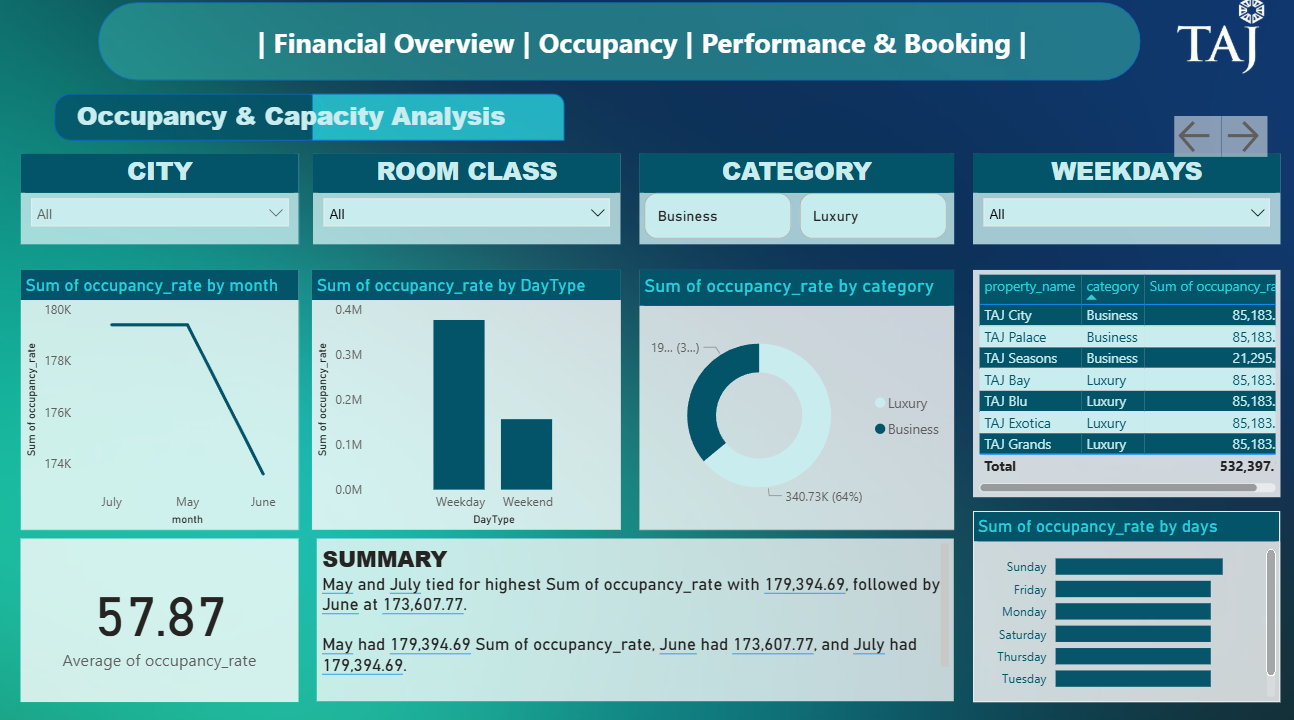

Layout of this report page (visuals, bound fields, positions):
{"tool":"powerbi","page":{"name":"Occupancy","canvas":[1280,720],"ordinal":2},"visuals":[{"type":"image","box":[0,1.8,1279.7,719],"z":0},{"type":"image","box":[1123,0,156.6,87.2],"z":1000},{"type":"shape","box":[103.2,10.7,1019.8,76.5],"z":2000},{"type":"shape","box":[60.5,99.7,263.4,46.3],"z":3000},{"type":"shape","box":[311.5,99.7,247.4,46.3],"z":4000},{"type":"textbox","box":[138.8,26.7,984.2,46.3],"z":5000},{"type":"textbox","box":[76.5,99.7,482.3,58.7],"z":6000},{"type":"slicer","title":"CITY","fields":{"Values":["hotels (1).city"]},"box":[26.7,158.4,272.3,89],"z":7000},{"type":"slicer","title":"ROOM CLASS","fields":{"Values":["rooms.room_class"]},"box":[313.2,158.4,300.8,89],"z":8000},{"type":"advancedSlicerVisual","title":"CATEGORY","fields":{"Values":["hotels (1).category"]},"box":[631.8,158.4,307.9,89],"z":9000},{"type":"slicer","title":"WEEKDAYS","fields":{"Values":["bookings.days"]},"box":[959.3,158.4,300.8,89],"z":10000},{"type":"donutChart","fields":{"Category":["hotels (1).category"],"Y":["Sum(occupancy.occupancy_rate)"]},"box":[631.8,272.3,307.9,254.5],"z":11000},{"type":"tableEx","fields":{"Values":["hotels (1).property_name","hotels (1).category","Sum(occupancy.occupancy_rate)"]},"box":[959.3,272.3,300.8,222.5],"z":12000},{"type":"clusteredBarChart","fields":{"Y":["Sum(occupancy.occupancy_rate)"],"Category":["occupancy.days"]},"box":[959.3,509,300.8,186.9],"z":13000},{"type":"lineChart","fields":{"Category":["occupancy.month"],"Y":["Sum(occupancy.occupancy_rate)"]},"box":[26.7,272.3,272.3,254.5],"z":14000},{"type":"clusteredColumnChart","fields":{"Category":["occupancy.DayType"],"Y":["Sum(occupancy.occupancy_rate)"]},"box":[311.5,272.3,302.6,254.5],"z":15000},{"type":"card","fields":{"Values":["Avg(occupancy.occupancy_rate)"]},"box":[26.7,535.7,272.3,160.2],"z":16000},{"type":"textbox","box":[317.2,536.1,623.2,159.2],"z":17000},{"type":"actionButton","box":[1201.8,122.6,44.7,40.4],"z":18000},{"type":"actionButton","box":[1155.7,122.6,46.2,40.4],"z":19000}]}

Visuals, with their boxes in screenshot pixels (x1, y1, x2, y2), scaled from the page's 1280x720 canvas onto the 1294x720 screenshot:
image: crop(0, 2, 1293, 719)
image: crop(1135, 0, 1293, 87)
shape: crop(104, 11, 1135, 87)
shape: crop(61, 100, 327, 146)
shape: crop(315, 100, 565, 146)
textbox: crop(140, 27, 1135, 73)
textbox: crop(77, 100, 565, 158)
"CITY" slicer: crop(27, 158, 302, 247)
"ROOM CLASS" slicer: crop(317, 158, 621, 247)
"CATEGORY" advancedSlicerVisual: crop(639, 158, 950, 247)
"WEEKDAYS" slicer: crop(970, 158, 1274, 247)
donutChart - hotels (1).category x Sum(occupancy.occupancy_rate): crop(639, 272, 950, 527)
tableEx - hotels (1).property_name x hotels (1).category: crop(970, 272, 1274, 495)
clusteredBarChart - Sum(occupancy.occupancy_rate) x occupancy.days: crop(970, 509, 1274, 696)
lineChart - occupancy.month x Sum(occupancy.occupancy_rate): crop(27, 272, 302, 527)
clusteredColumnChart - occupancy.DayType x Sum(occupancy.occupancy_rate): crop(315, 272, 621, 527)
card - Avg(occupancy.occupancy_rate): crop(27, 536, 302, 696)
textbox: crop(321, 536, 951, 695)
actionButton: crop(1215, 123, 1260, 163)
actionButton: crop(1168, 123, 1215, 163)
